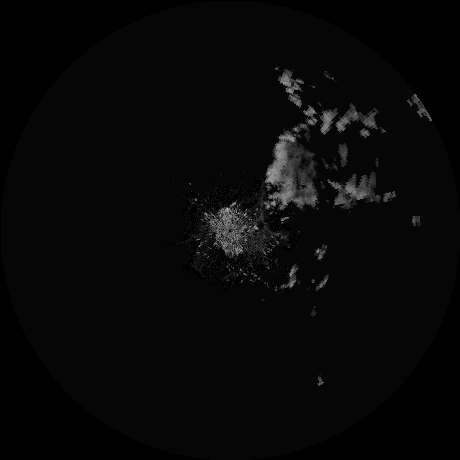frontgust: (257, 191, 281, 236)
